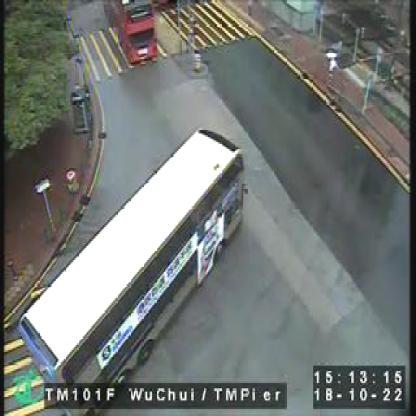Bus: (18, 127, 248, 399), (101, 1, 159, 65)
